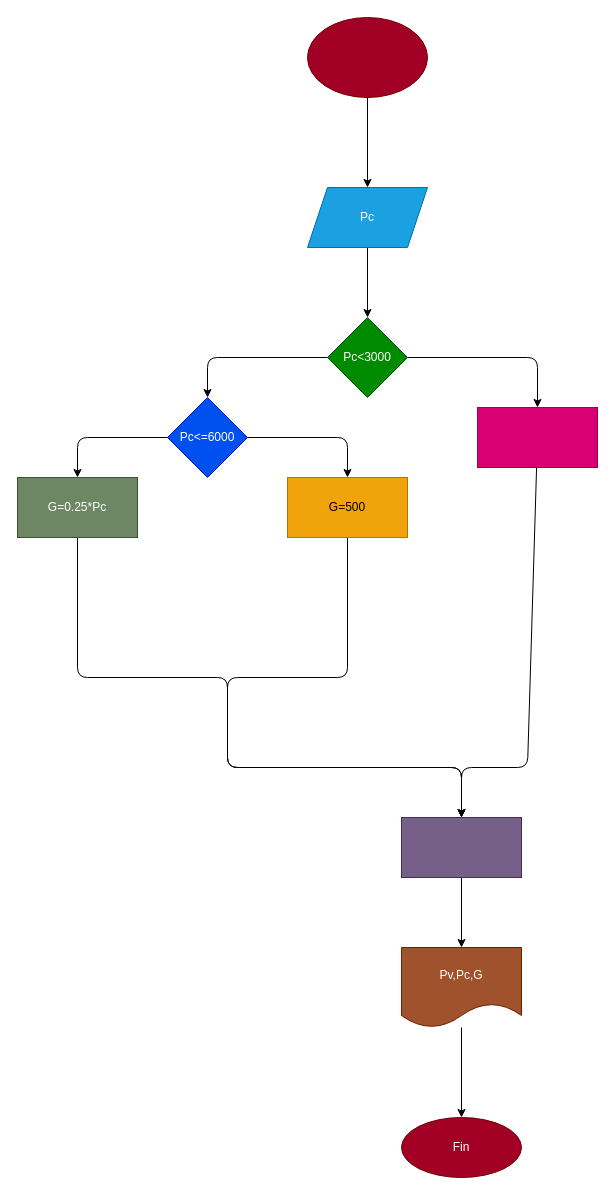
This 615x1195 diagram has some shape labels left out. The centre of each missing label's shape, as x and y in pixels:
"G=0.15*Pc" belongs at pixel 537 437.
"Inicio" belongs at pixel 367 57.
"Pv=Pc+G" belongs at pixel 461 847.
